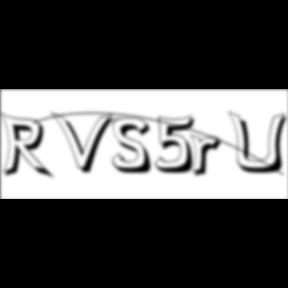5: (154, 114, 202, 176)
R: (1, 112, 58, 182)
S: (113, 117, 159, 176)
V: (52, 110, 119, 176)
r: (190, 134, 228, 180)
